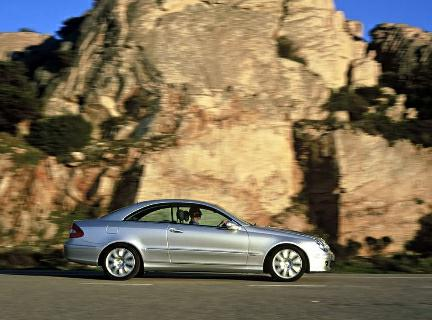奔驰-CLK级: (62, 191, 345, 289)
